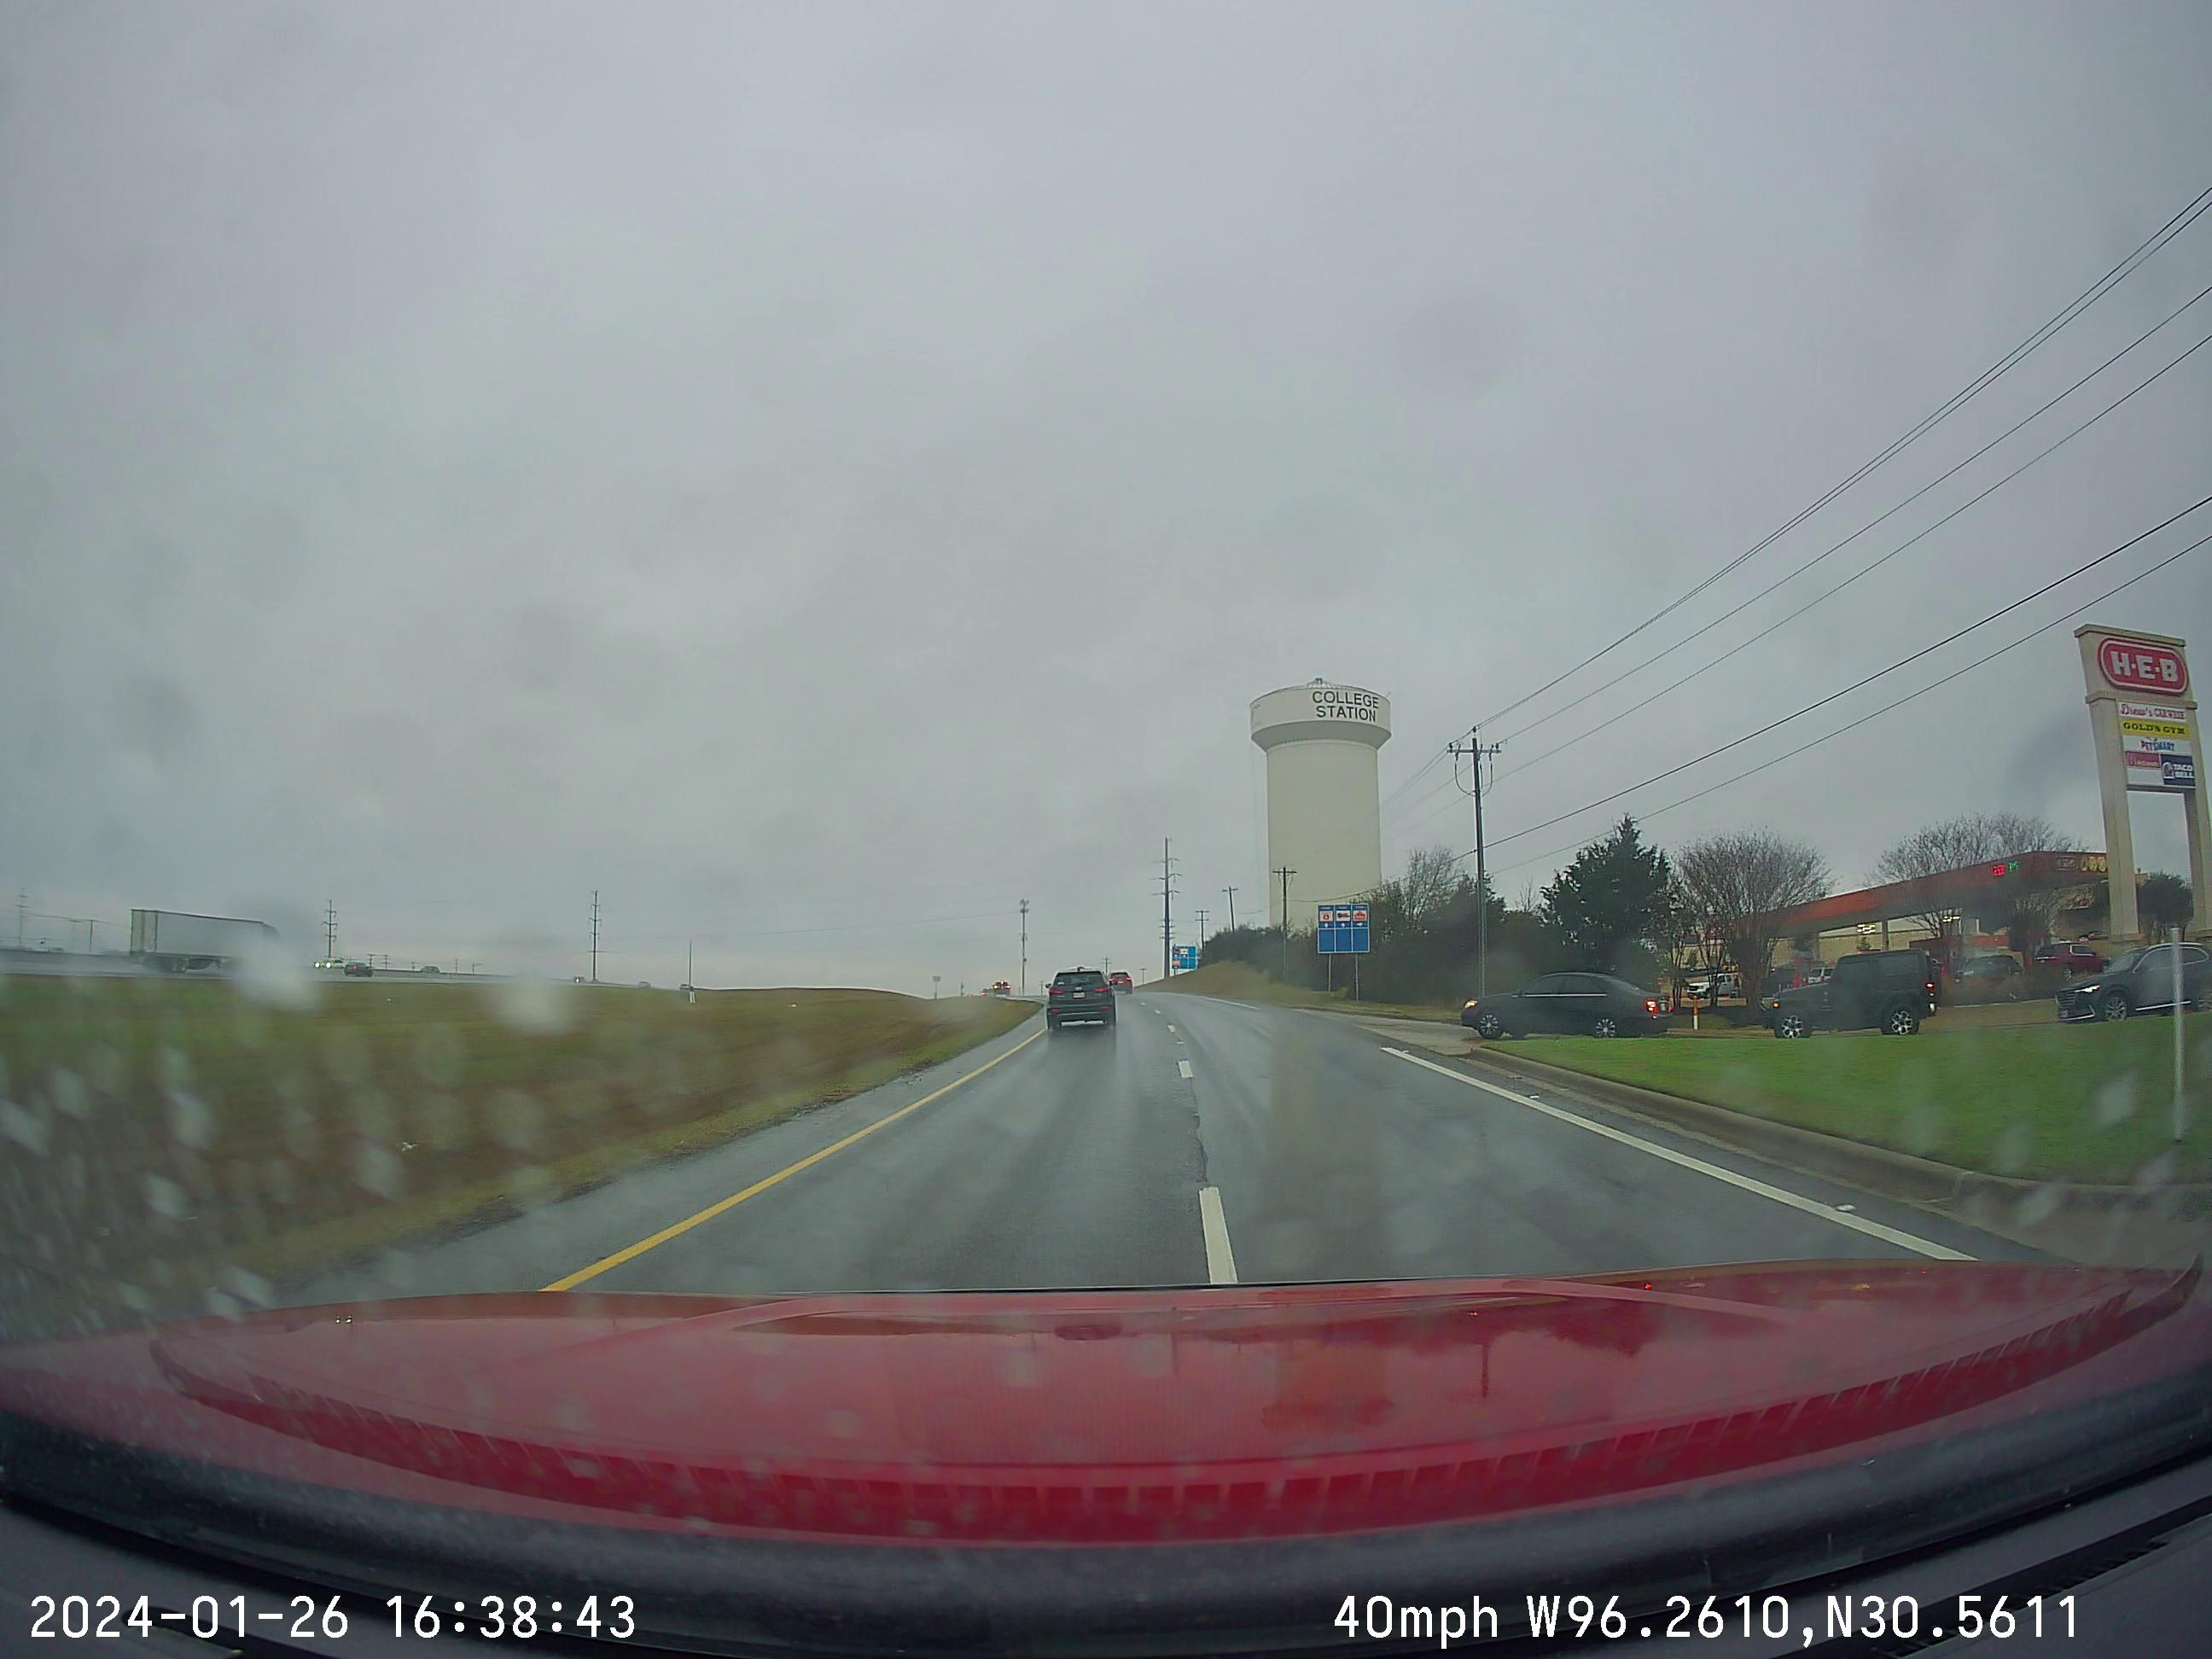truck: (1761, 950, 1940, 1037)
